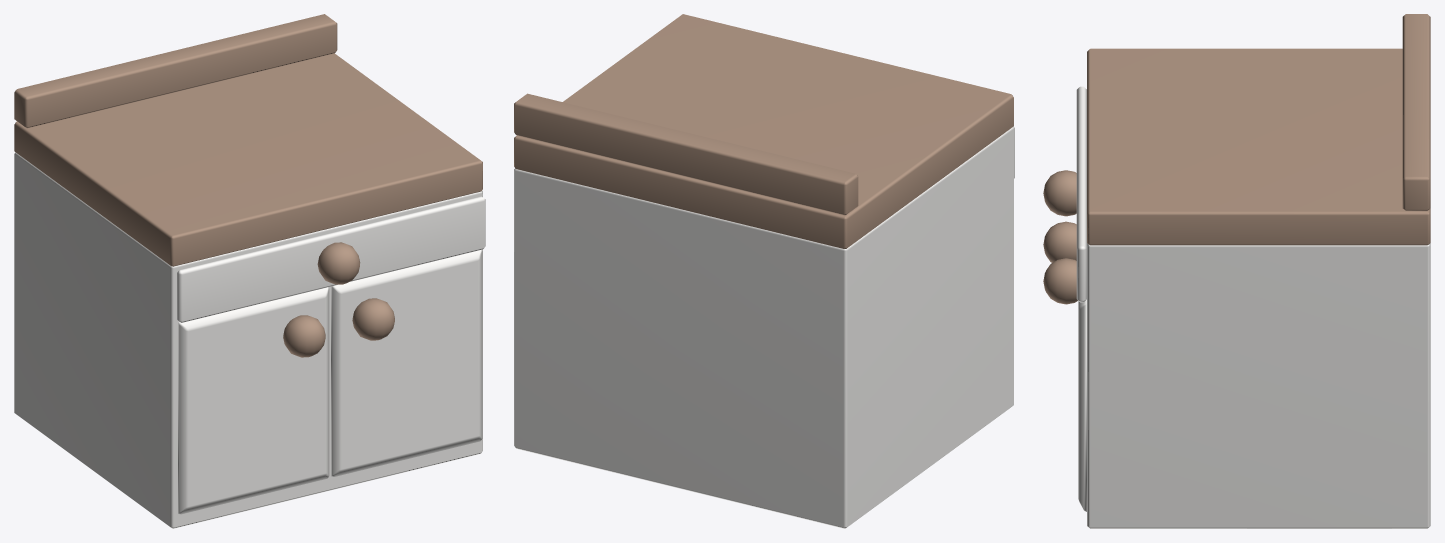
File: Drawer_brown_1.glb
3 renders of one model, left to right at view 1: azimuth 30°, elevation 25°; view 2: azimuth 150°, elevation 25°; view 3: azimuth 270°, elevation 25°, orthographic. The views are drawn at different scales.
Visible parts, largest first — view 1: Kitchen_Cabinet_4; view 2: Kitchen_Cabinet_4; view 3: Kitchen_Cabinet_4.
Part boxes in pixels (x1,y1,x2,y2): Kitchen_Cabinet_4: (14, 14, 485, 528); Kitchen_Cabinet_4: (514, 14, 1014, 528); Kitchen_Cabinet_4: (1043, 14, 1430, 528).
Bounding box in the file's own units: 1.05 × 1.04 × 1.04.
1 material, 1 textured.
